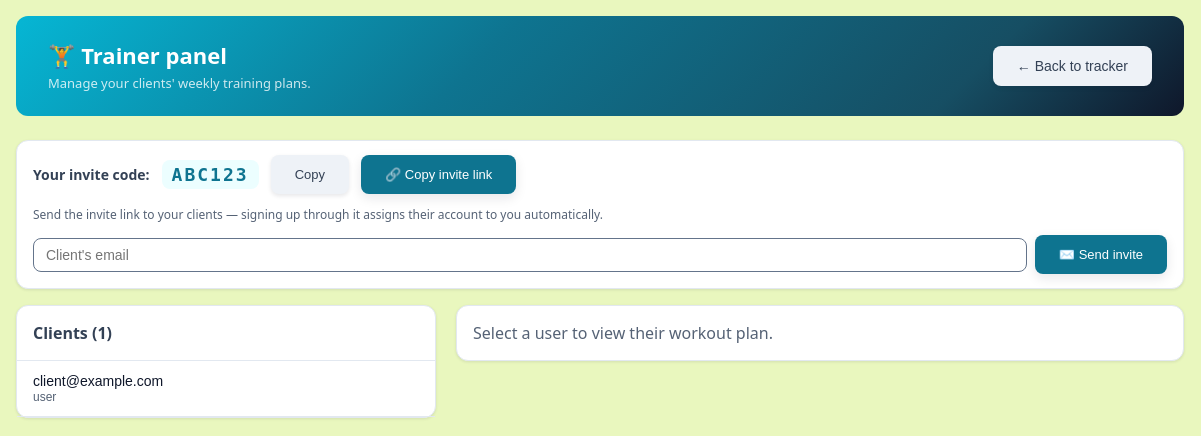
Test: AdminDashboard invite by email › shows an error message when the send fails
This screenshot has width=1201, height=436.
Type "client@example.com" into the field with placeholder "Client's email". click: {"x": 530, "y": 254}
box: x1=33 y1=238 x2=1027 y2=272
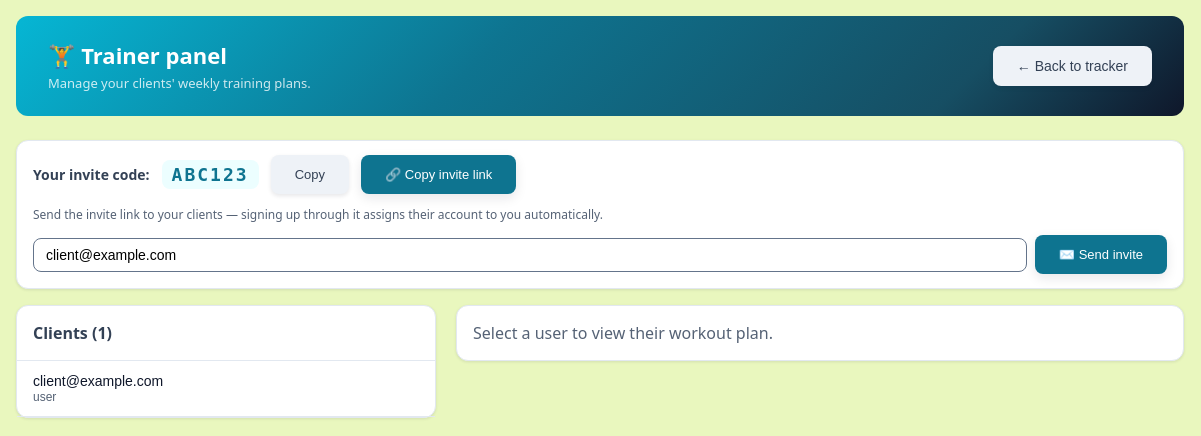
Click the button "✉️ Send invite". click: {"x": 1101, "y": 254}
box: x1=1035 y1=235 x2=1167 y2=274
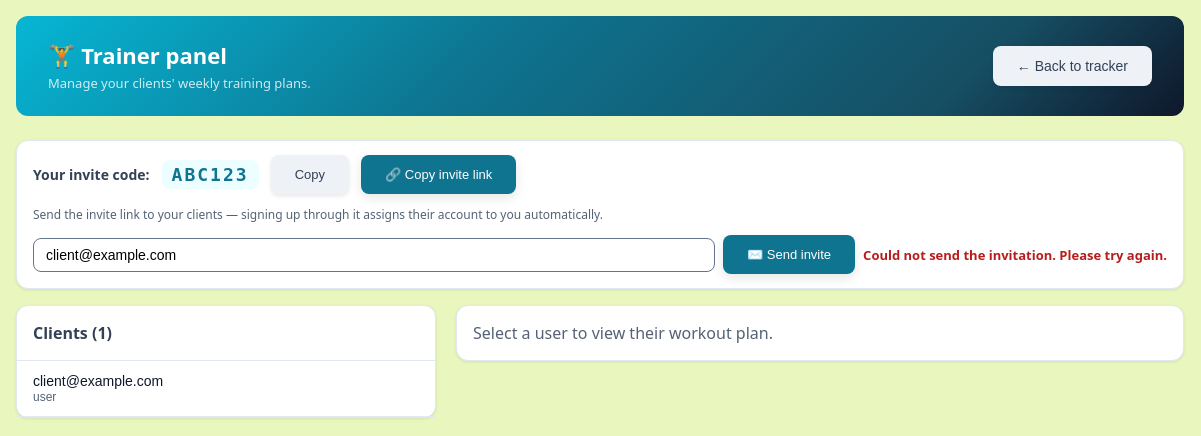
Result: the text "Could not send the invitation. Please try again." is shown at x1=863 y1=246 x2=1167 y2=264
